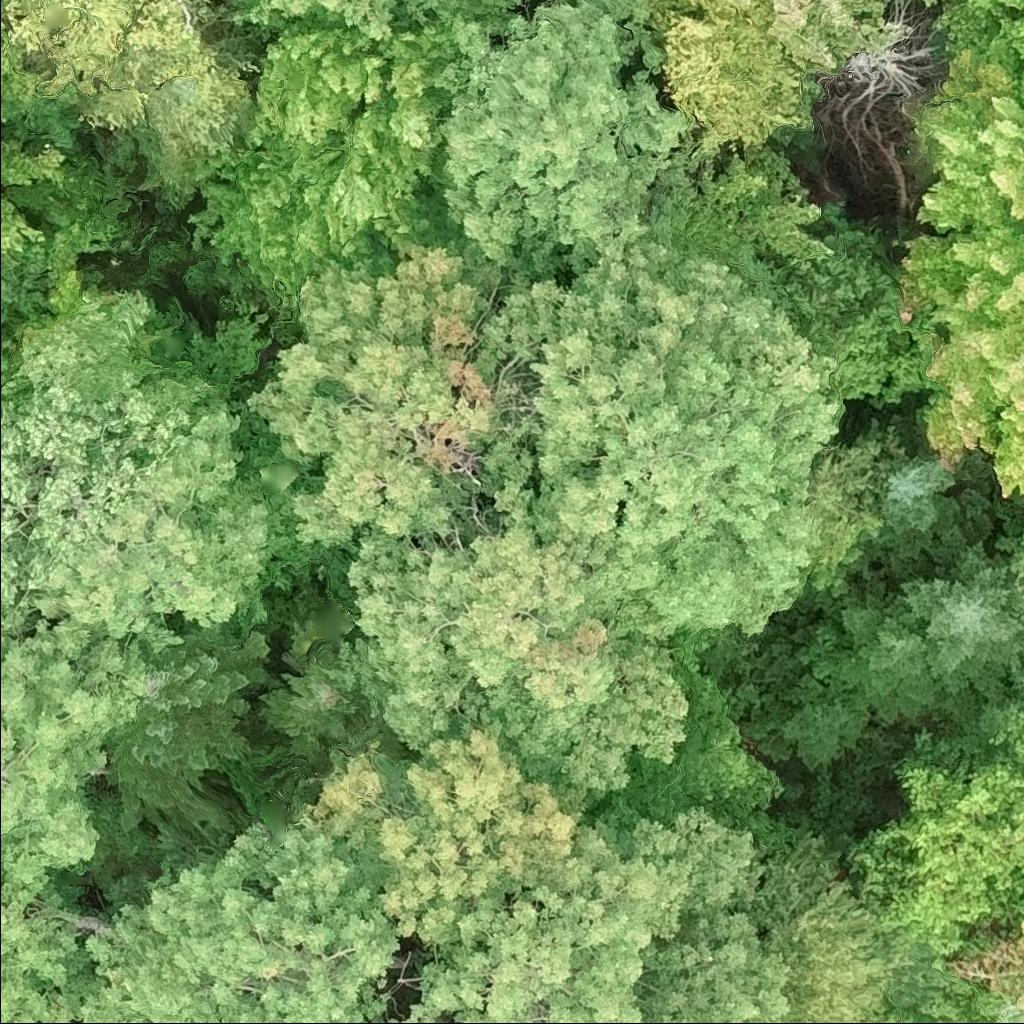crown: (310, 732, 797, 1023), (528, 225, 847, 638), (349, 483, 692, 821), (0, 294, 274, 650), (248, 247, 569, 550), (46, 816, 415, 1023), (194, 31, 461, 310), (442, 5, 687, 270), (0, 618, 145, 1023), (848, 703, 1023, 963), (0, 0, 241, 155), (897, 235, 1023, 501), (735, 825, 899, 1023), (668, 0, 818, 150), (919, 43, 1023, 237), (899, 545, 1023, 700), (250, 25, 376, 151), (837, 600, 943, 726), (237, 0, 445, 47), (771, 0, 899, 72), (840, 13, 933, 110), (878, 445, 962, 550), (926, 0, 1023, 66), (0, 22, 63, 122), (0, 134, 68, 190), (0, 192, 49, 260), (1010, 997, 1023, 1023)
